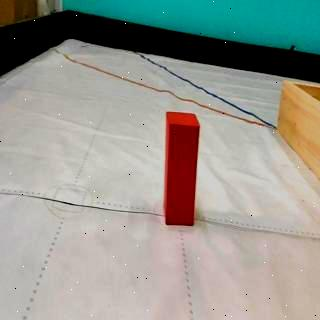redbox: (164, 111, 202, 226)
